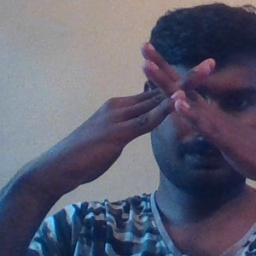W: (111, 27, 235, 163)
